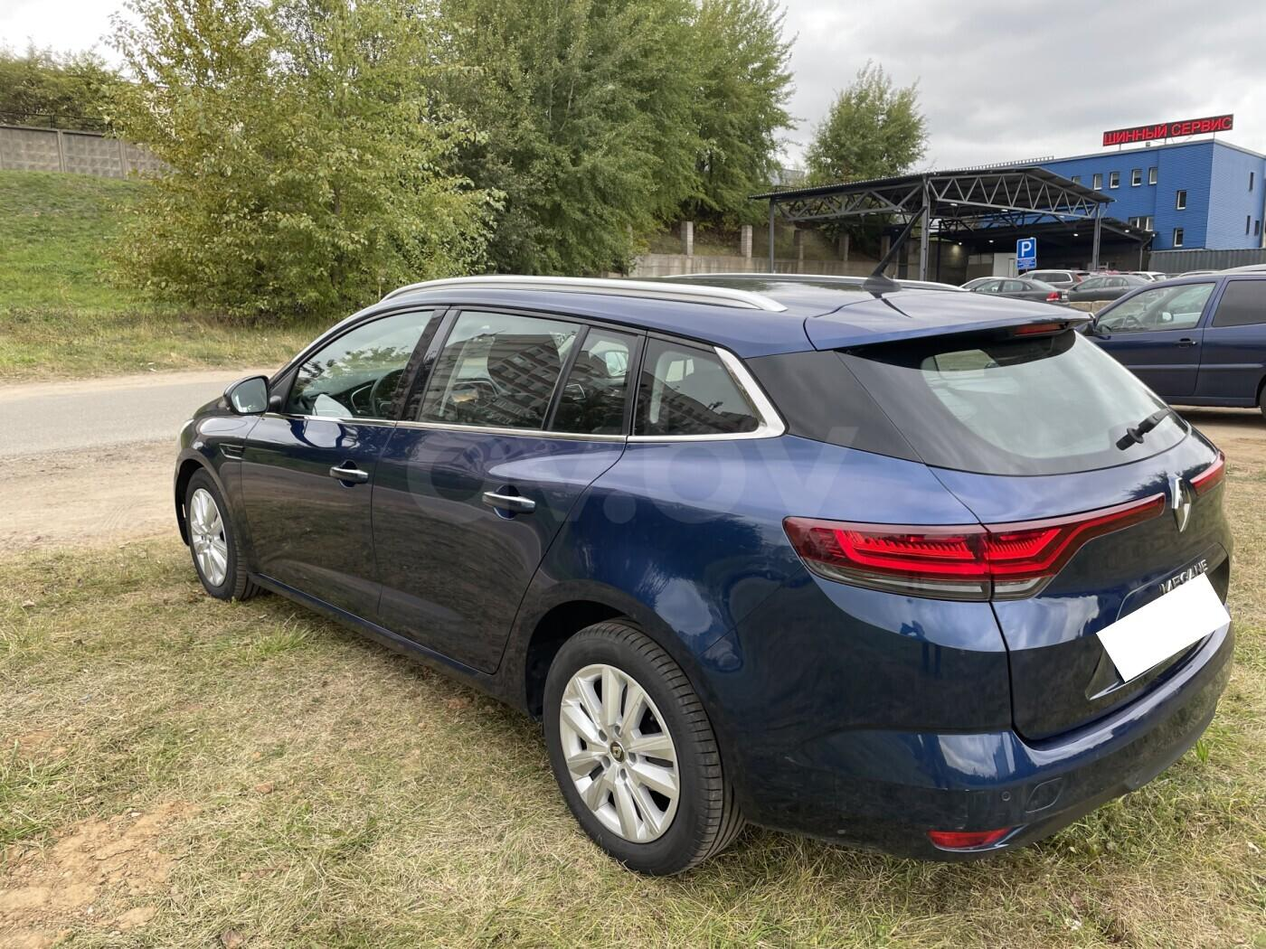Megane_2020: (158, 266, 1247, 866)
